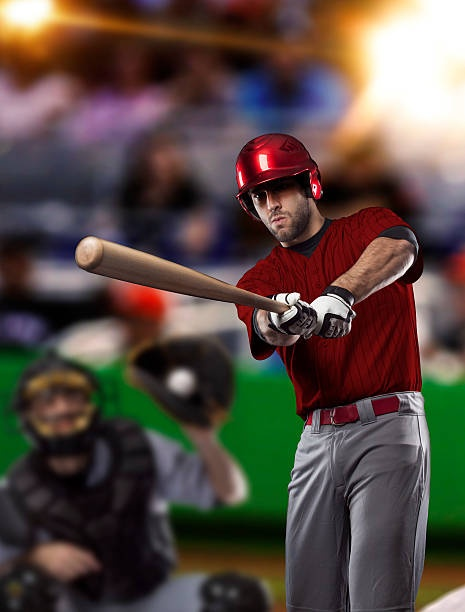bita: (71, 235, 320, 322)
